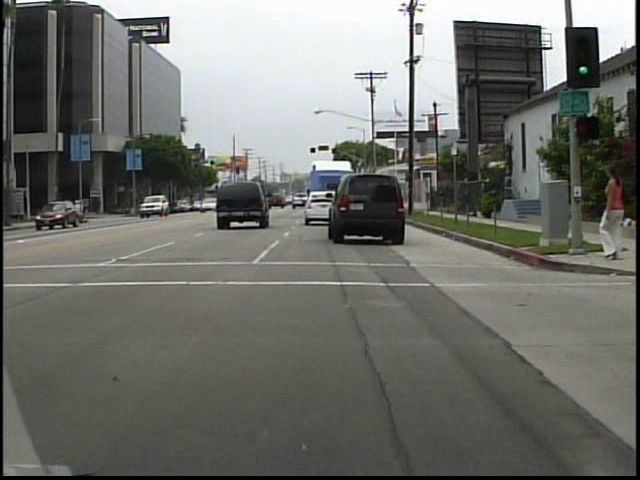person: (592, 160, 630, 262)
